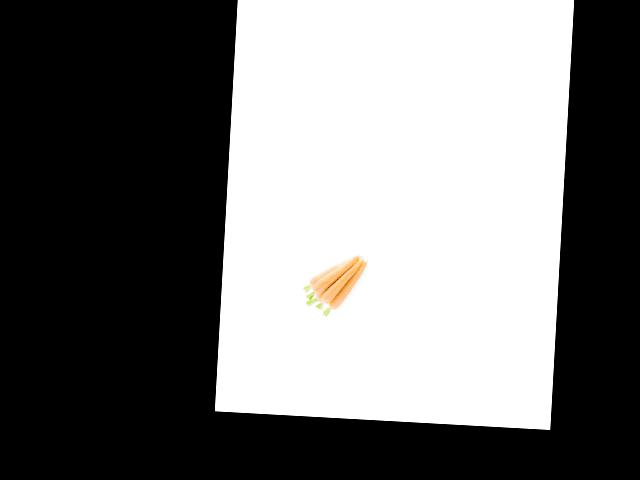carrot: (329, 260, 371, 315)
